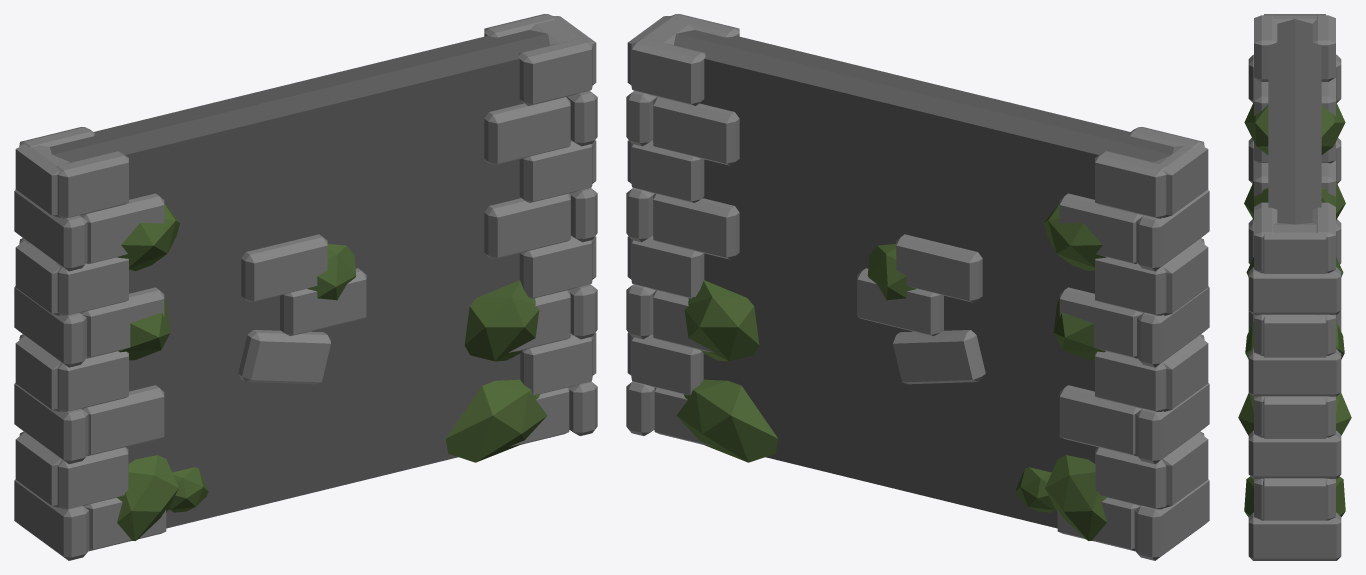
The model's file is DungeonWallMossy.fbx.
3 renders of one model, left to right at view 1: azimuth 30°, elevation 25°; view 2: azimuth 150°, elevation 25°; view 3: azimuth 270°, elevation 25°, orthographic. The views are drawn at different scales.
Visible parts, largest first — view 1: DungeonWallMossy; view 2: DungeonWallMossy; view 3: DungeonWallMossy.
Part boxes in pixels (box(x1,y1,x2,y2)): DungeonWallMossy: box(14, 14, 597, 560); DungeonWallMossy: box(626, 14, 1209, 560); DungeonWallMossy: box(1238, 14, 1351, 560).
Size of the model in its own units: 520 by 356 by 111.
1 material, 1 textured.
